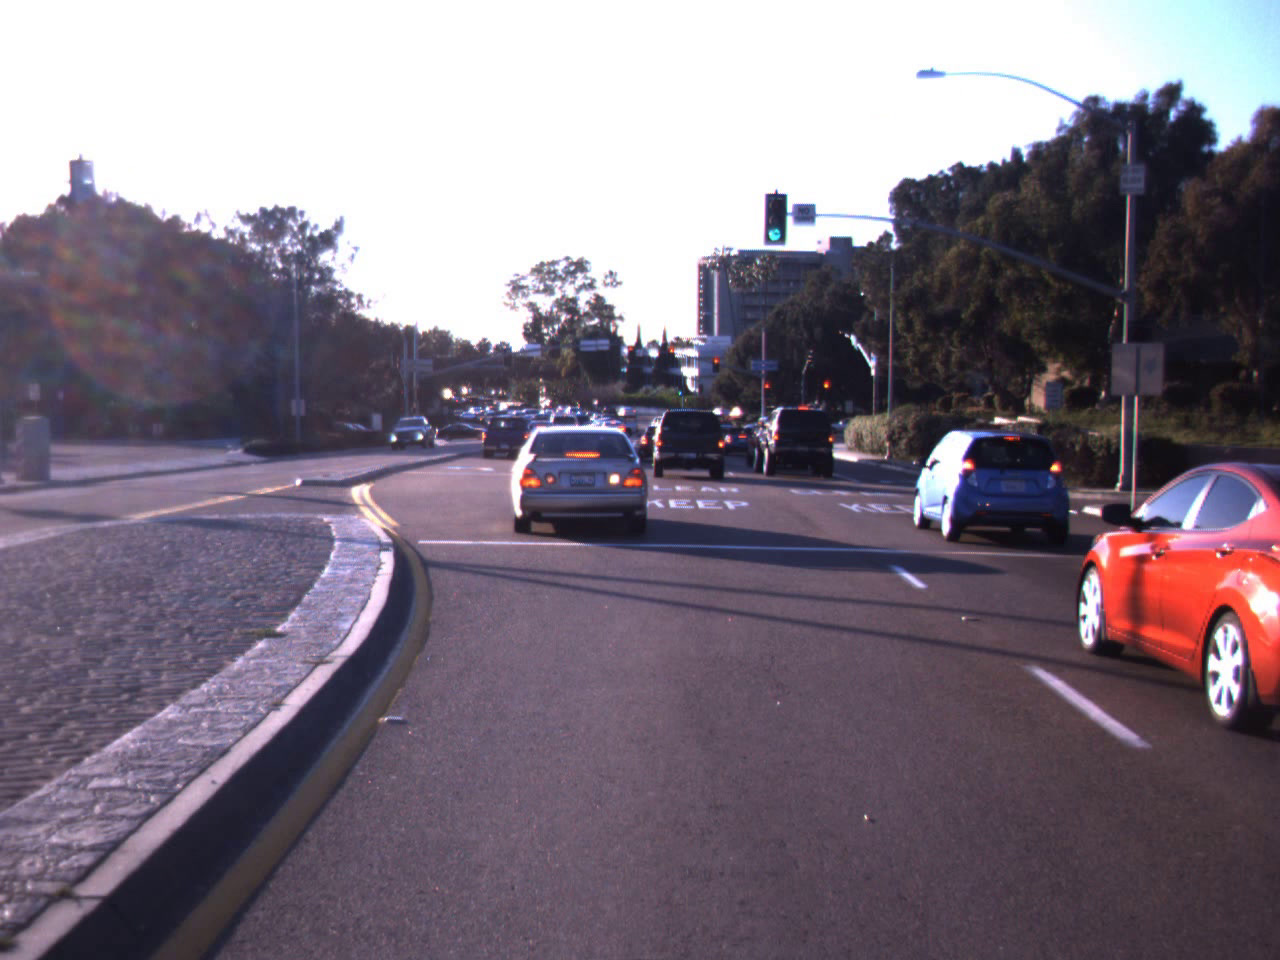go: (758, 195, 791, 245)
